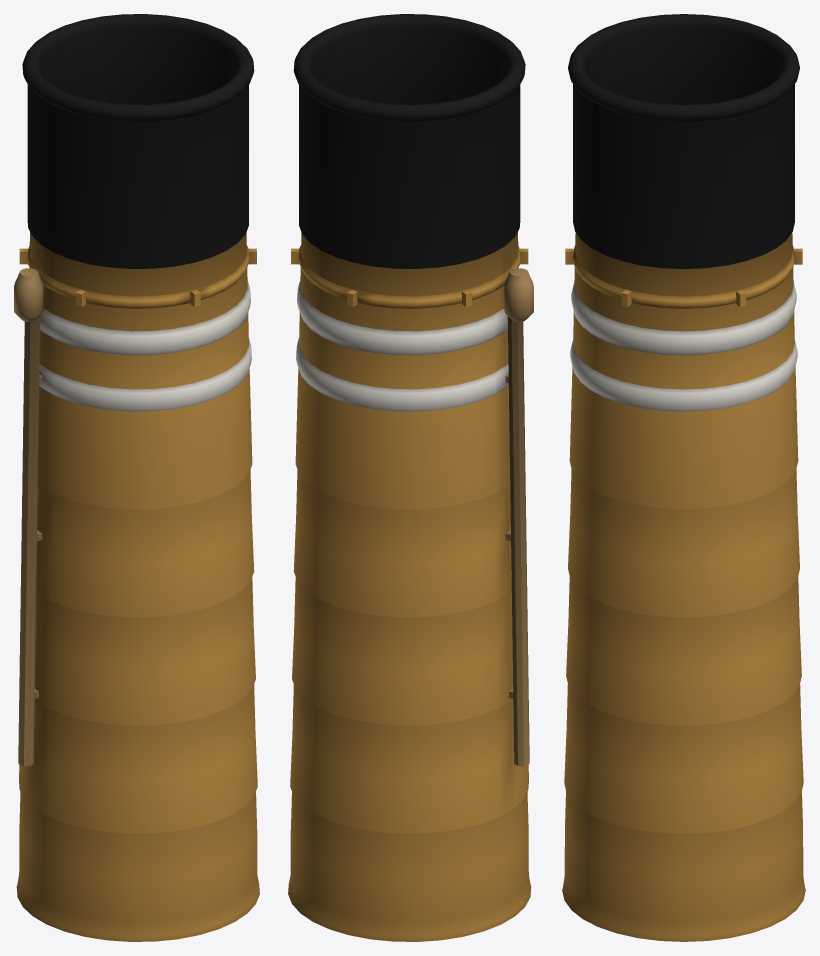
Rendered from funnel.glb.
3 renders of one model, left to right at view 1: azimuth 30°, elevation 25°; view 2: azimuth 150°, elevation 25°; view 3: azimuth 270°, elevation 25°, orthographic.
Parts seen in each view (by area): view 1: body, cap, bands, pipe; view 2: body, cap, bands, pipe; view 3: body, cap, bands.
Boxes of the visible parts, x1,y1,x2,y2 form: body: [16, 232, 259, 941]; cap: [22, 14, 254, 268]; bands: [39, 281, 251, 411]; pipe: [14, 268, 43, 766]; body: [288, 232, 531, 941]; cap: [293, 14, 525, 268]; bands: [296, 281, 508, 411]; pipe: [504, 268, 533, 766]; body: [562, 232, 805, 941]; cap: [568, 14, 799, 269]; bands: [570, 283, 797, 411].
Size of the model in its own units: 0.9226 by 3.22 by 0.856.
